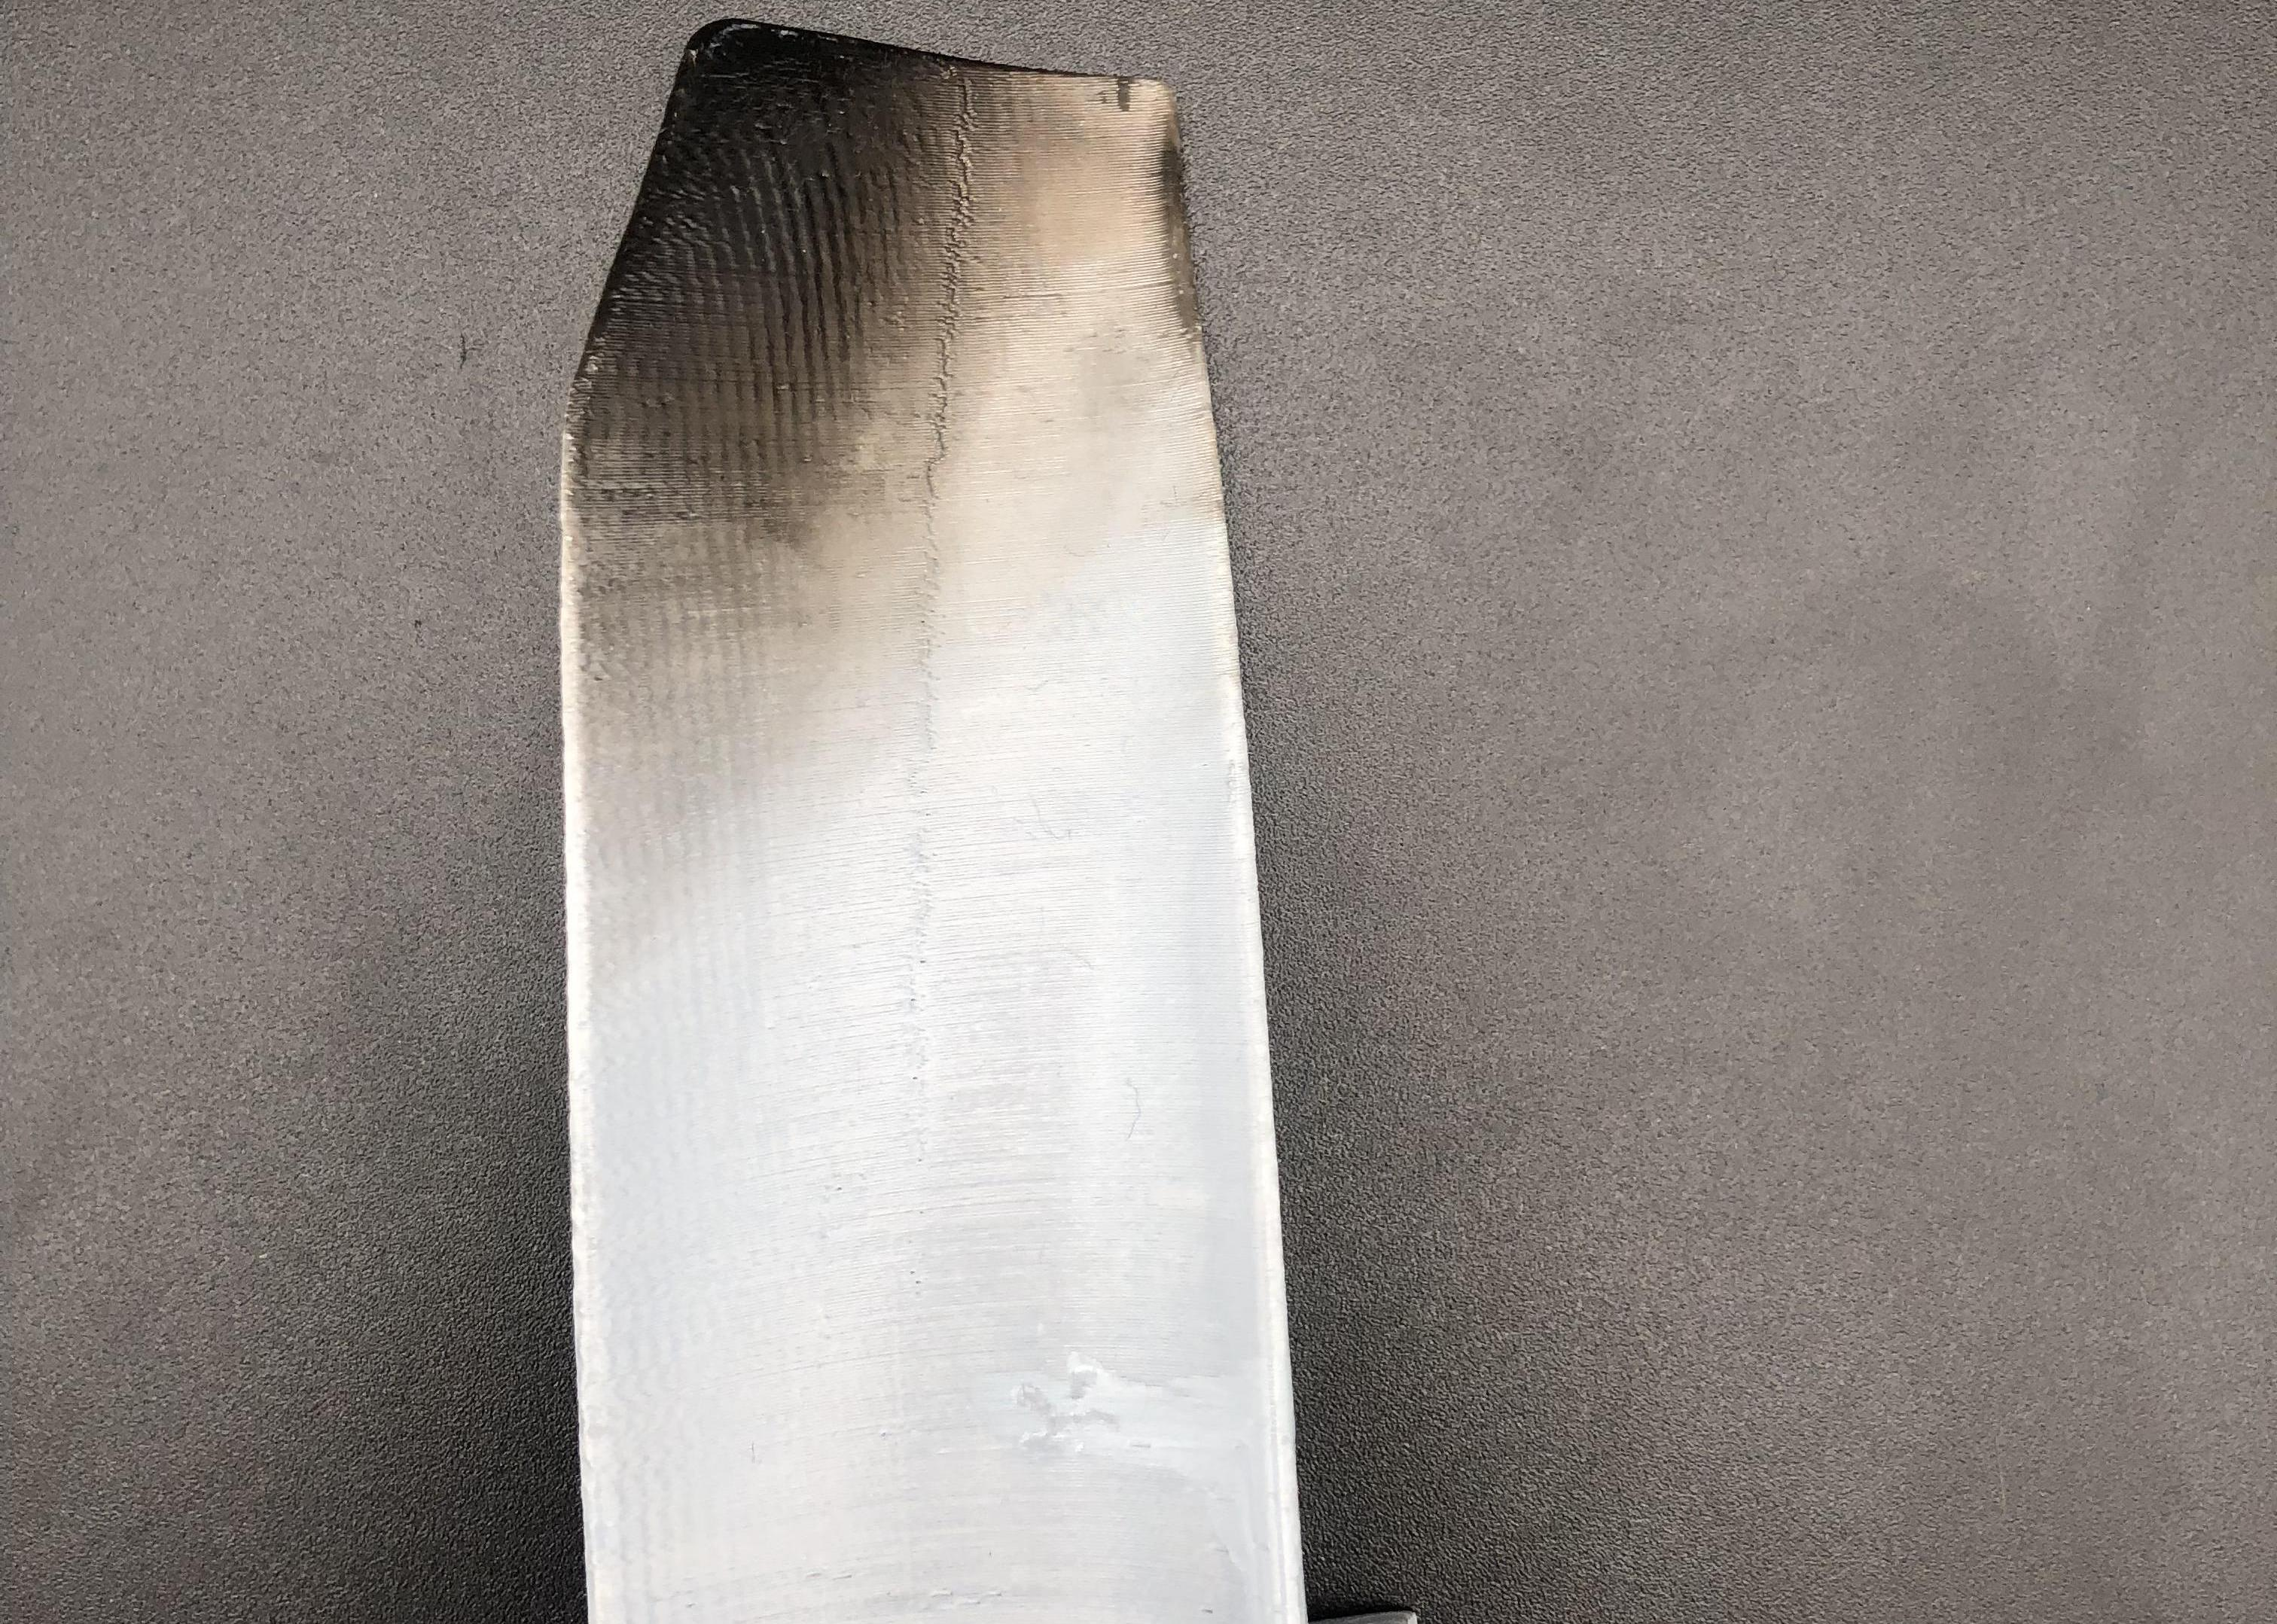ablation: (622, 86, 1059, 415)
